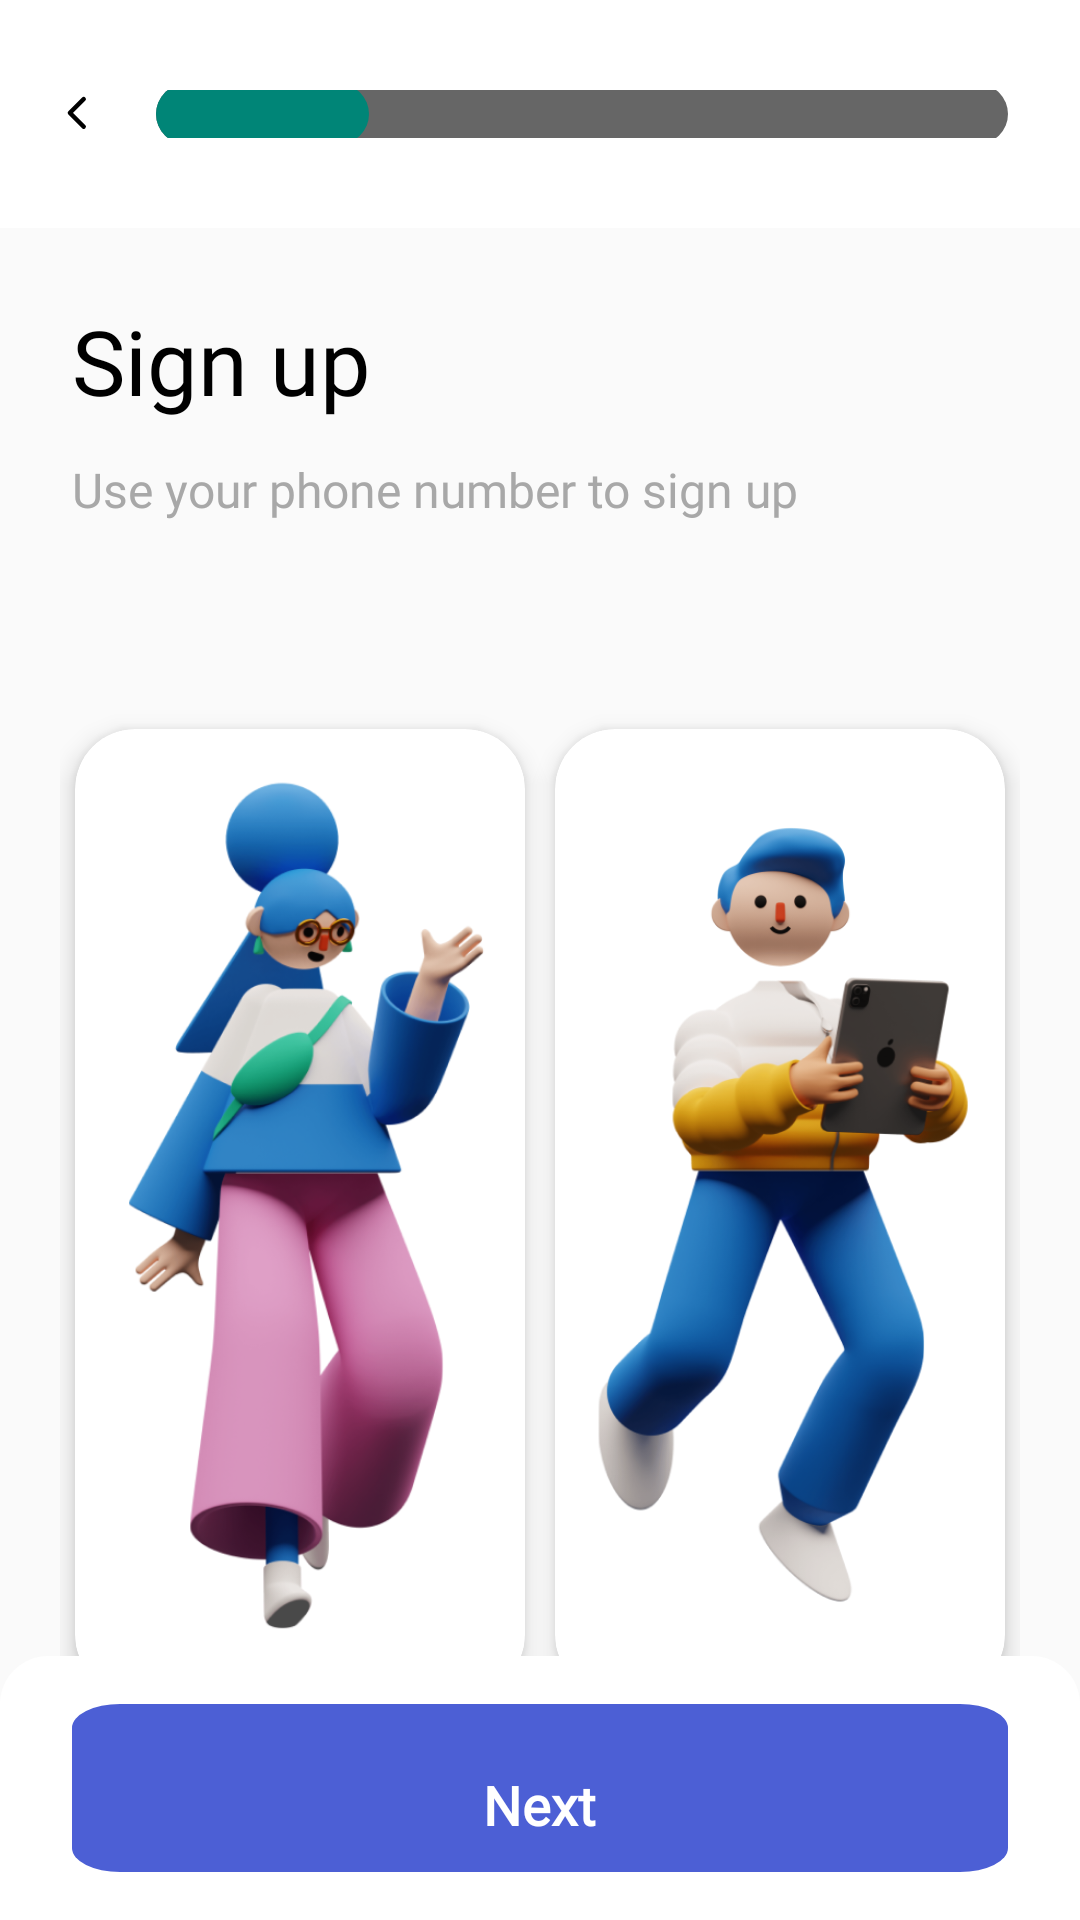

Named icons in this screenshot (1080 × 1920) and their bounding boxes, (x1, y1, x2, y2):
backicon: (67, 96, 86, 129)
